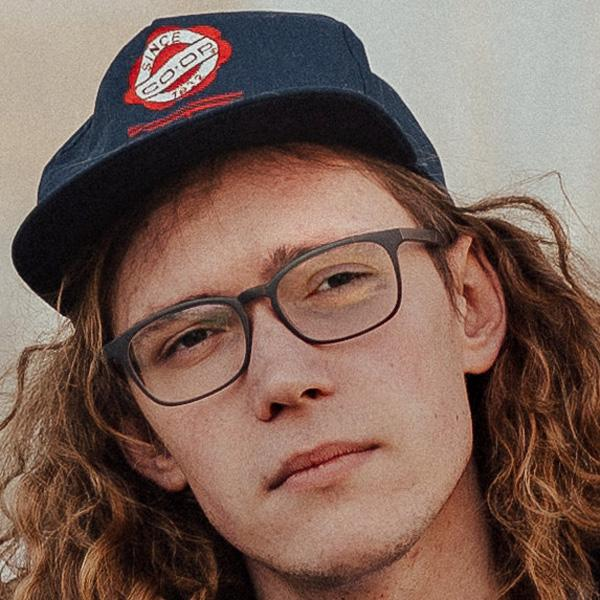Eyes: (155, 309, 234, 368), (299, 258, 381, 308)
